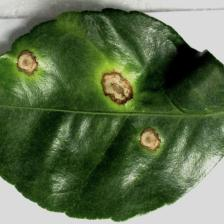canker: (17, 29, 161, 147)
